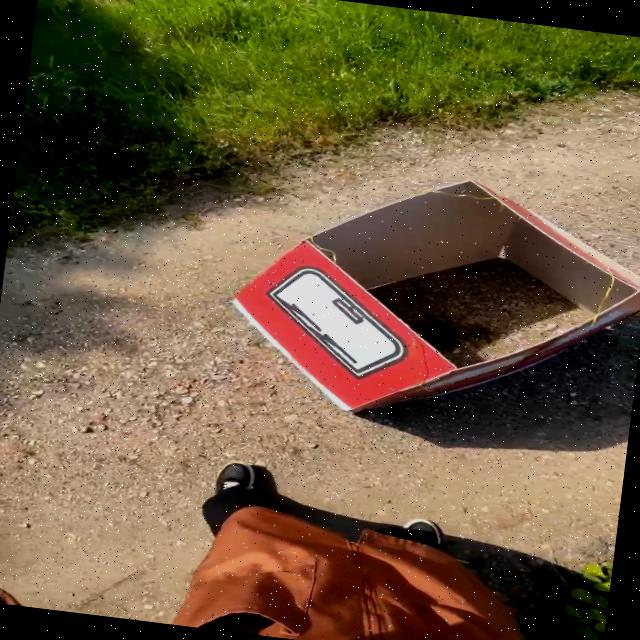red_car: (186, 129, 640, 474)
